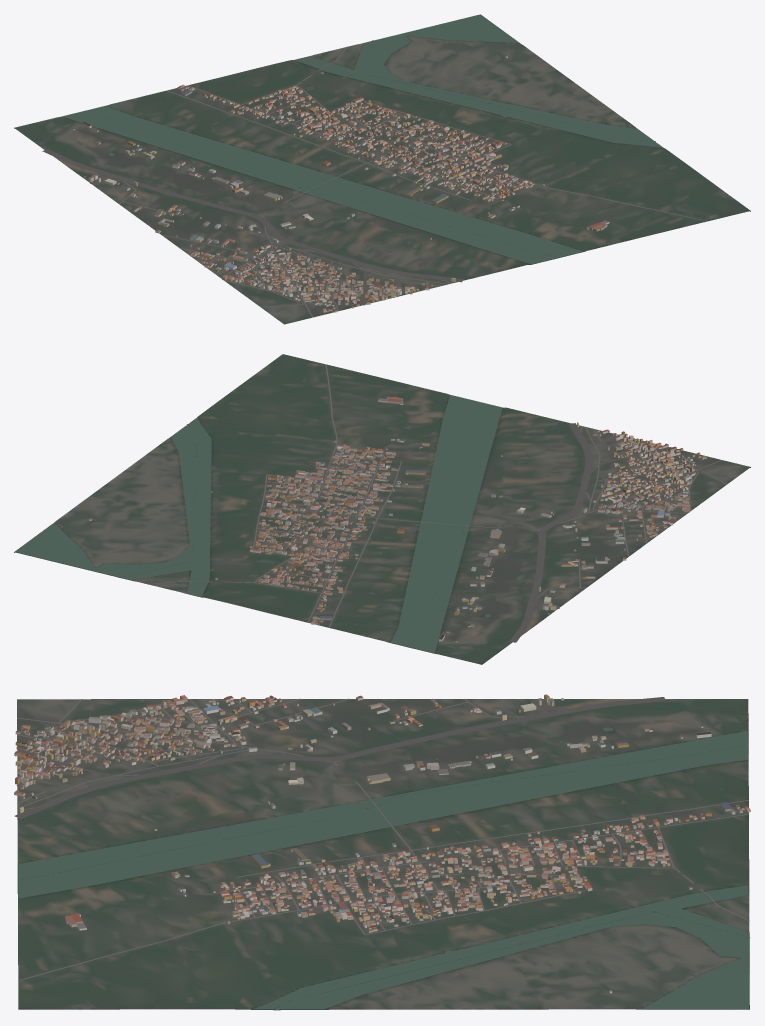
3 views of the same model, one above another, from view 1: azimuth 30°, elevation 25°; view 2: azimuth 150°, elevation 25°; view 3: azimuth 270°, elevation 25° (orthographic). The views are drawn at different scales.
Visible parts, largest first — view 1: ground, water, buildings, roads; view 2: ground, water, buildings, roads; view 3: ground, water, buildings, roads.
Boxes of the visible parts, <box> form: ground: <box>14,15,750,324</box>; water: <box>62,14,662,264</box>; buildings: <box>72,56,609,312</box>; roads: <box>42,46,707,317</box>; ground: <box>14,354,750,664</box>; water: <box>15,395,506,653</box>; buildings: <box>89,396,706,642</box>; roads: <box>147,364,727,642</box>; ground: <box>17,699,749,1010</box>; water: <box>18,727,750,1010</box>; buildings: <box>14,694,750,993</box>; roads: <box>14,697,749,980</box>.
Size of the model in its own units: 1416 by 19.06 by 1412.
